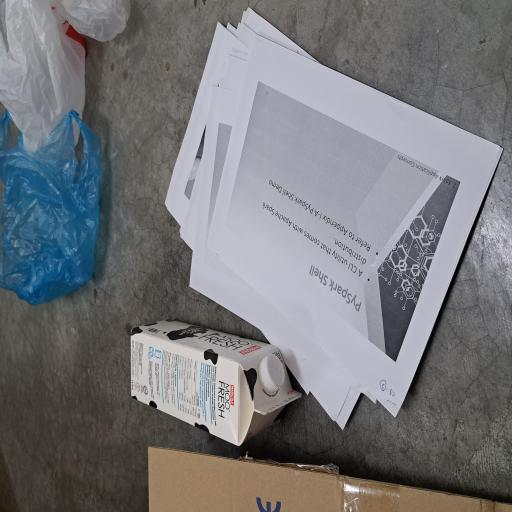cardboard: (0, 196, 52, 512)
drink carton: (50, 174, 146, 403)
paper: (60, 218, 379, 512)
plastic bag: (155, 0, 301, 131), (268, 0, 384, 116), (351, 74, 384, 173)
plastic bottle cap: (89, 345, 120, 380)
